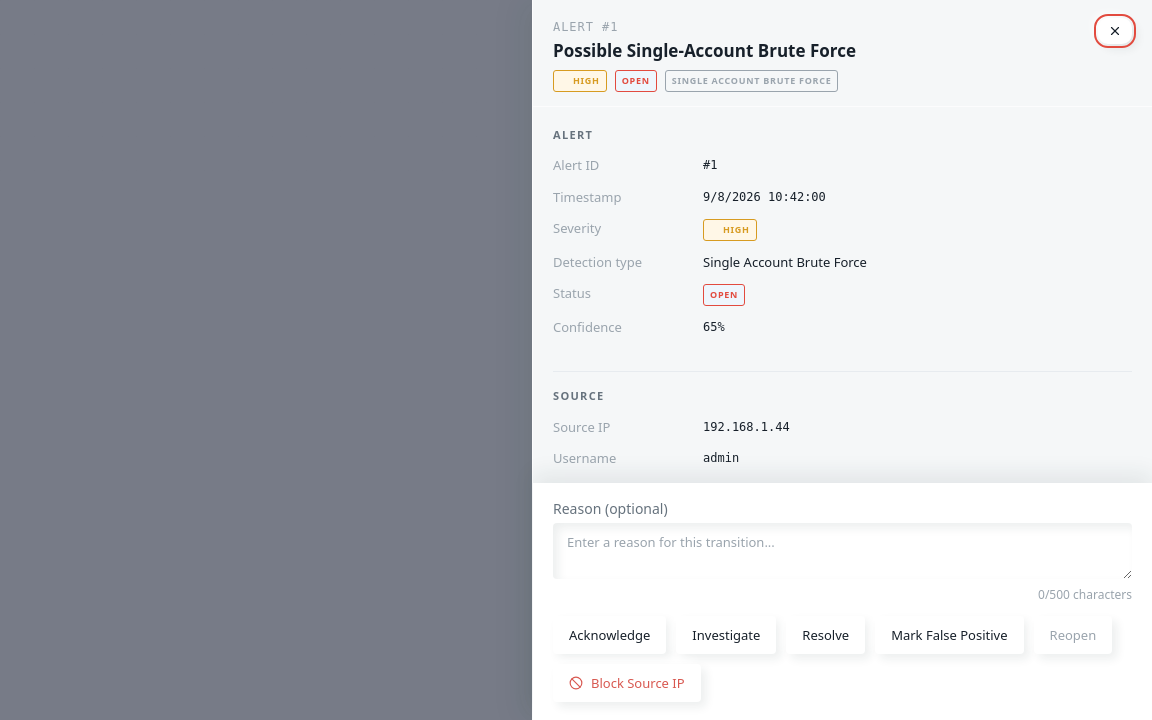
Test case: AlertDetailPanel actions › confirms before blocking, then persists the blacklist entry
Click the button "Block Source IP" at {"x": 627, "y": 683}, box [553,664,701,702]
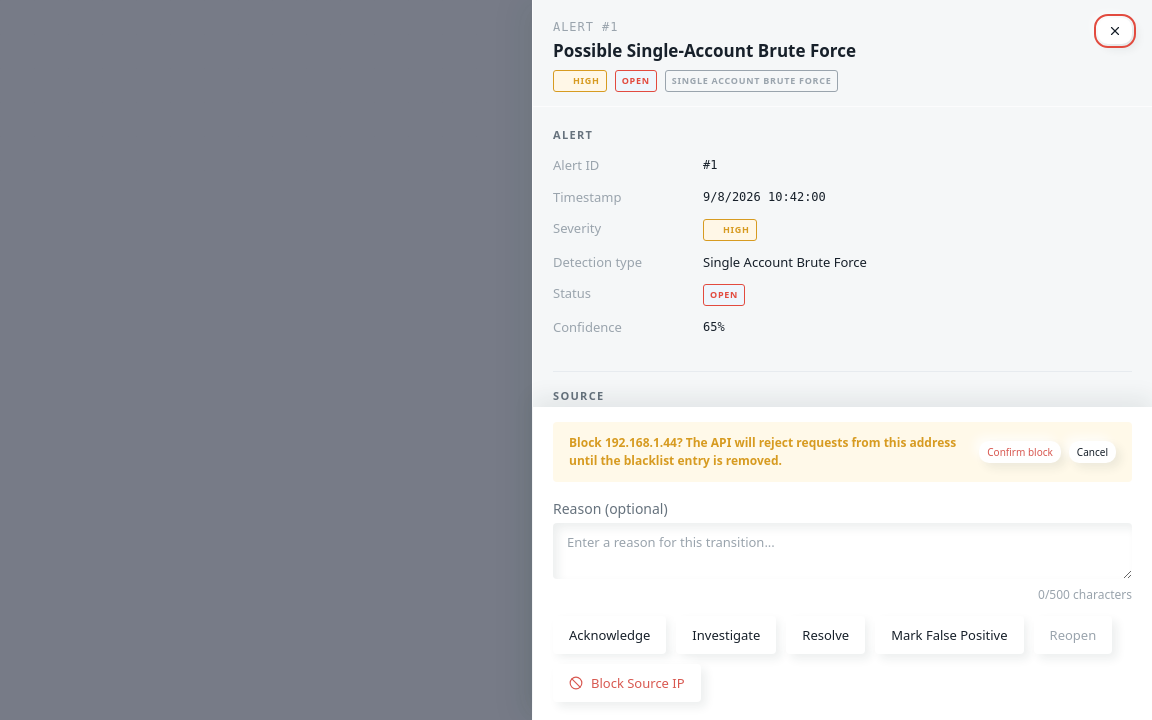
Expected: the text "reject requests from this address" is shown, [569,434,956,469]
Click the button "Confirm block" at {"x": 1020, "y": 452}, box [979,441,1061,463]
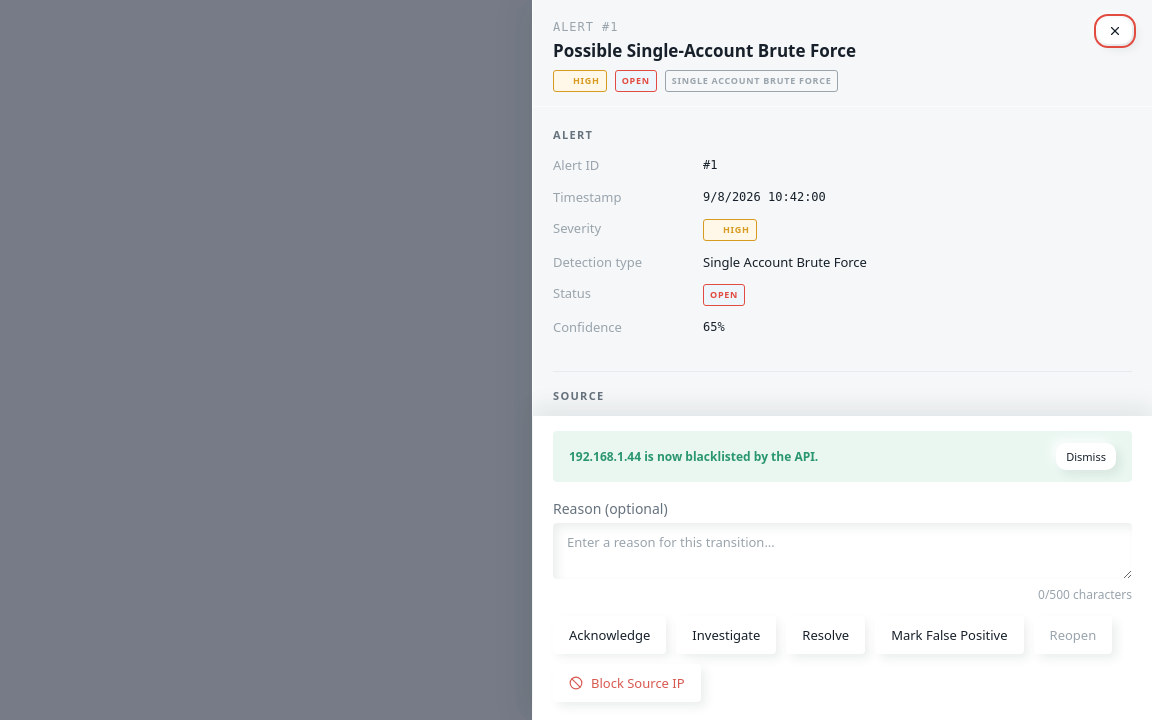
Expected: the text "192.168.1.44 is now blacklisted by the API." is shown, [569,448,818,466]
